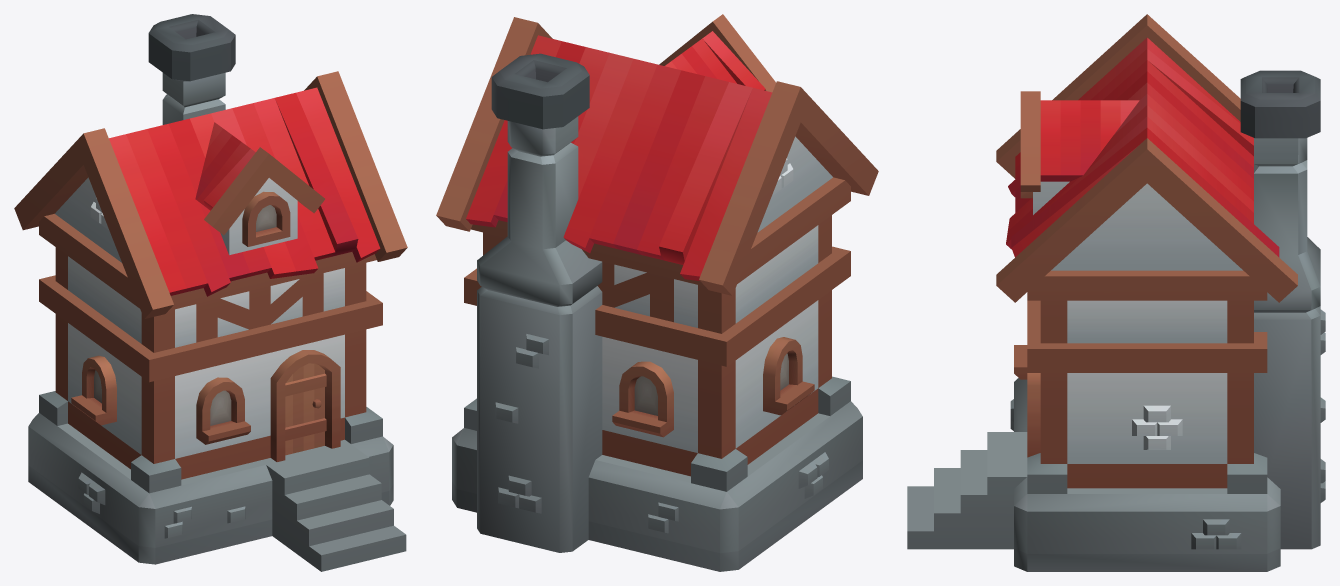
Rendered from kay-casa-vermelha-b.gltf.
3 views of the same model, side by side, from view 1: azimuth 30°, elevation 25°; view 2: azimuth 150°, elevation 25°; view 3: azimuth 270°, elevation 25° (orthographic). The views are drawn at different scales.
Visible parts, largest first — view 1: building_home_B_red; view 2: building_home_B_red; view 3: building_home_B_red.
Boxes of the visible parts, x1,y1,x2,y2 form: building_home_B_red: [14, 14, 407, 571]; building_home_B_red: [436, 14, 878, 571]; building_home_B_red: [907, 14, 1325, 571].
Bounding box in the file's own units: 4.37 × 6.4 × 5.49.
1 material, 1 textured.
